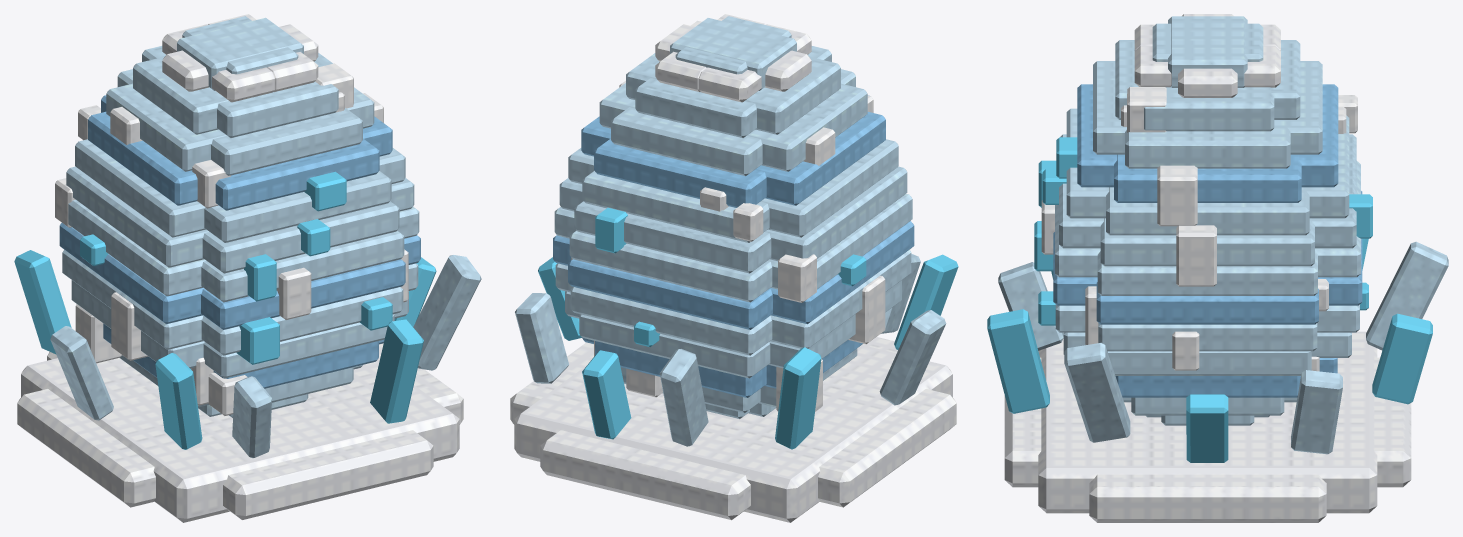
The model's file is oeuf_5_glace.glb.
3 views of the same model, side by side, from view 1: azimuth 30°, elevation 25°; view 2: azimuth 150°, elevation 25°; view 3: azimuth 270°, elevation 25° (orthographic). The views are drawn at different scales.
Visible parts, largest first — view 1: oeuf_5_glace; view 2: oeuf_5_glace; view 3: oeuf_5_glace.
Boxes of the visible parts, x1=… form: oeuf_5_glace: x1=14, y1=14, x2=481, y2=522; oeuf_5_glace: x1=510, y1=14, x2=958, y2=522; oeuf_5_glace: x1=987, y1=14, x2=1448, y2=522.
Size of the model in its own units: 4.58 by 4.5 by 4.63.
Materials: 1 (1 with a texture image).
